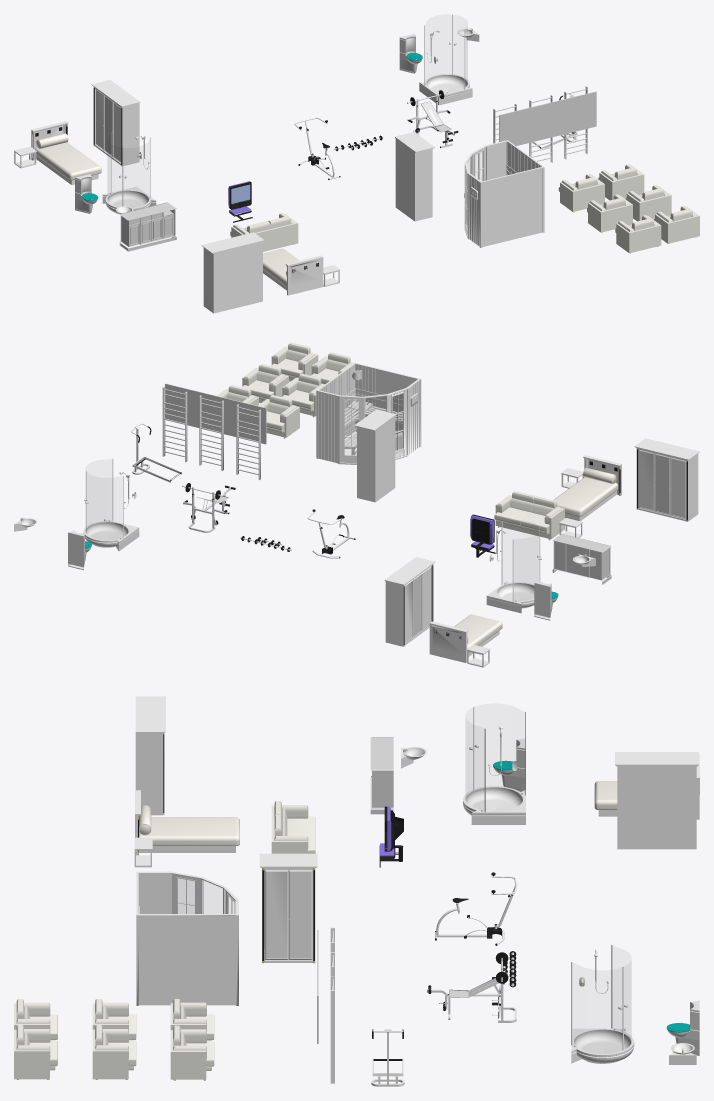
File: BasementFurniture.glb
3 renders of one model, top to bottom at view 1: azimuth 30°, elevation 25°; view 2: azimuth 150°, elevation 25°; view 3: azimuth 270°, elevation 25°, orthographic. The views are drawn at different scales.
Visible parts, largest first — view 1: BasementFurniture, Box327; view 2: BasementFurniture, Box327; view 3: BasementFurniture.
Part boxes in pixels (box(x1,y1,x2,y2)): BasementFurniture: box(14, 14, 699, 313); Box327: box(499, 91, 596, 145); BasementFurniture: box(14, 342, 699, 667); Box327: box(165, 383, 266, 444); BasementFurniture: box(14, 696, 699, 1086).
Bounding box in the file's own units: 17 × 2.5 × 15.84.
